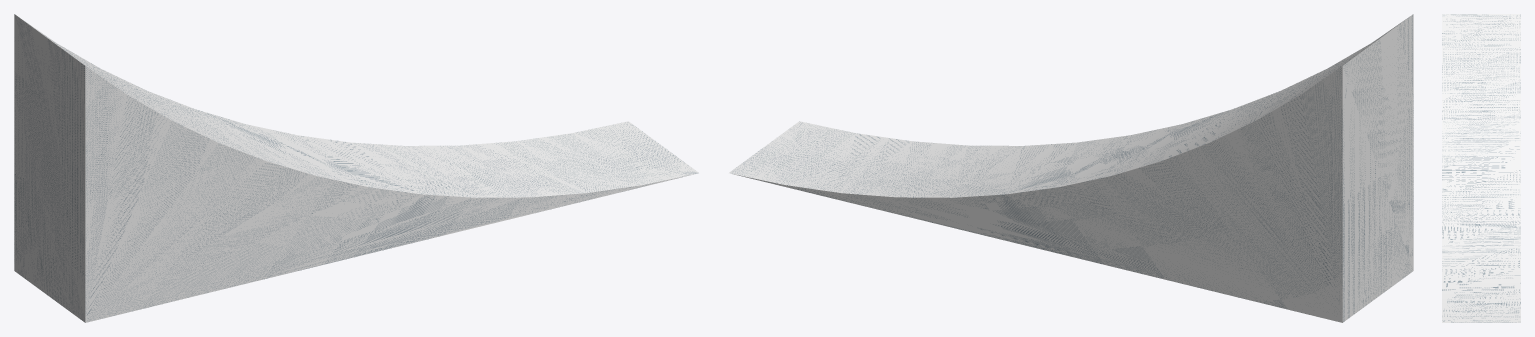
File: rampa1.fbx
3 views of the same model, side by side, from view 1: azimuth 30°, elevation 25°; view 2: azimuth 150°, elevation 25°; view 3: azimuth 270°, elevation 25° (orthographic). The views are drawn at different scales.
Parts seen in each view (by area): view 1: Model; view 2: Model; view 3: Model.
Boxes of the visible parts, box(x1,y1,x2,y2) form: Model: box(14, 14, 698, 322); Model: box(729, 14, 1413, 322); Model: box(1442, 14, 1520, 322).
Bounding box in the file's own units: 10 × 4 × 2.
